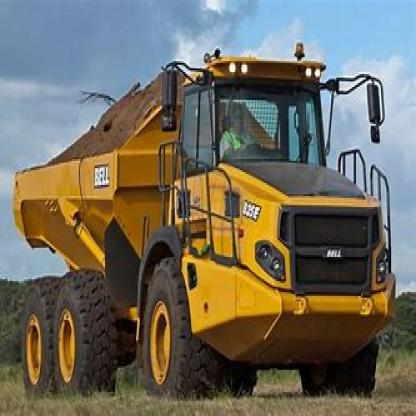dump_truck: (16, 26, 394, 410)
